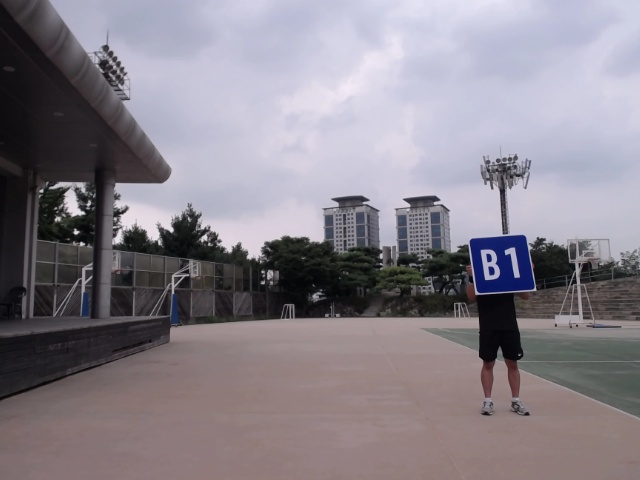delivery_b1: (468, 234, 536, 294)
